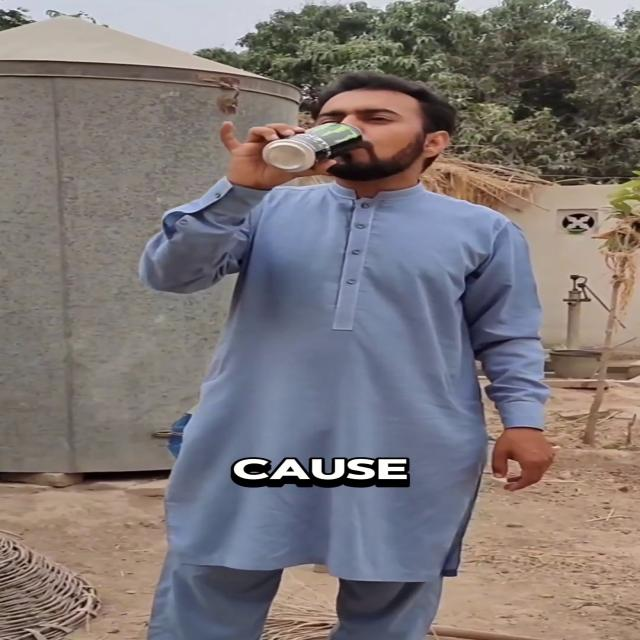Bottle: (264, 121, 364, 171)
Hand: (204, 111, 340, 191)
Mouth: (326, 138, 375, 160)
